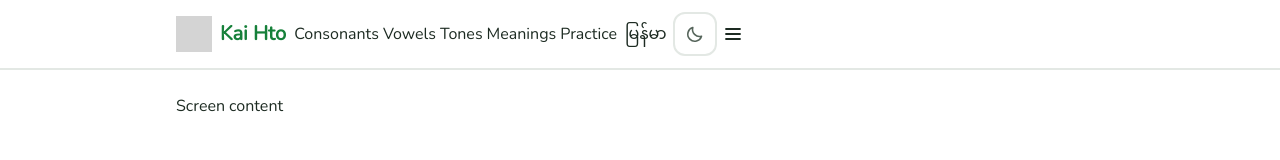
Scenario: Layout › given the phone menu is open › closes when a page is chosen
The image size is (1280, 160).
Click the button named "Menu" at [733, 34], box [723,24,743,44]
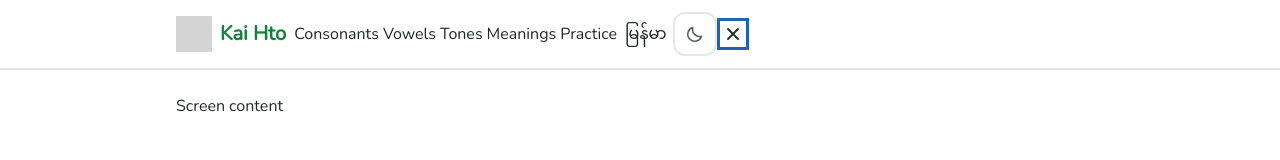
Click the link "Vowels" at [409, 34], box [383,23,436,45]
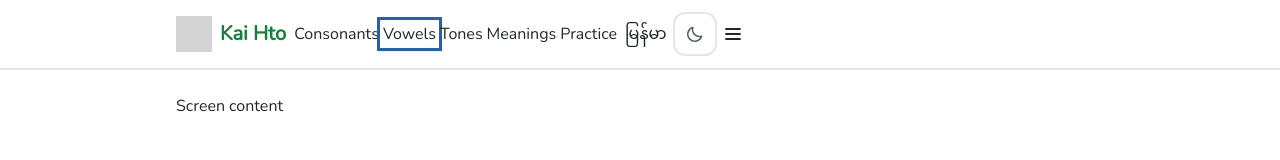
Expected: the button named "Menu" is collapsed, [723,24,743,44]
